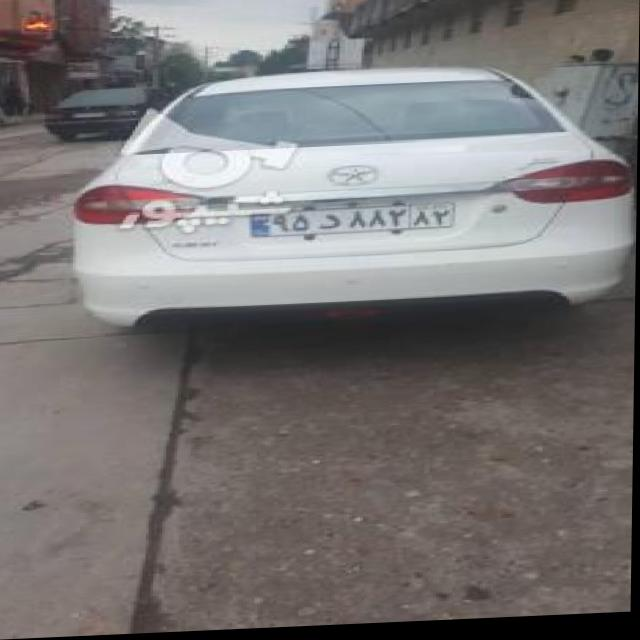licence: (247, 206, 459, 238)
